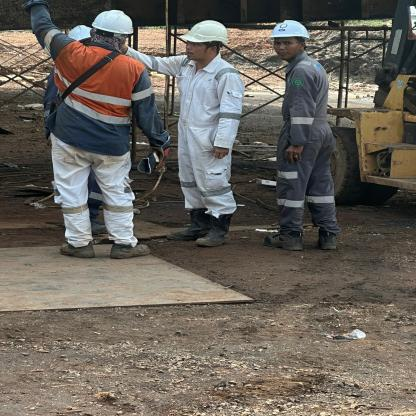bota: (194, 214, 236, 247), (169, 209, 207, 241), (262, 230, 305, 251), (108, 239, 151, 259), (59, 242, 95, 258), (315, 230, 339, 250)
